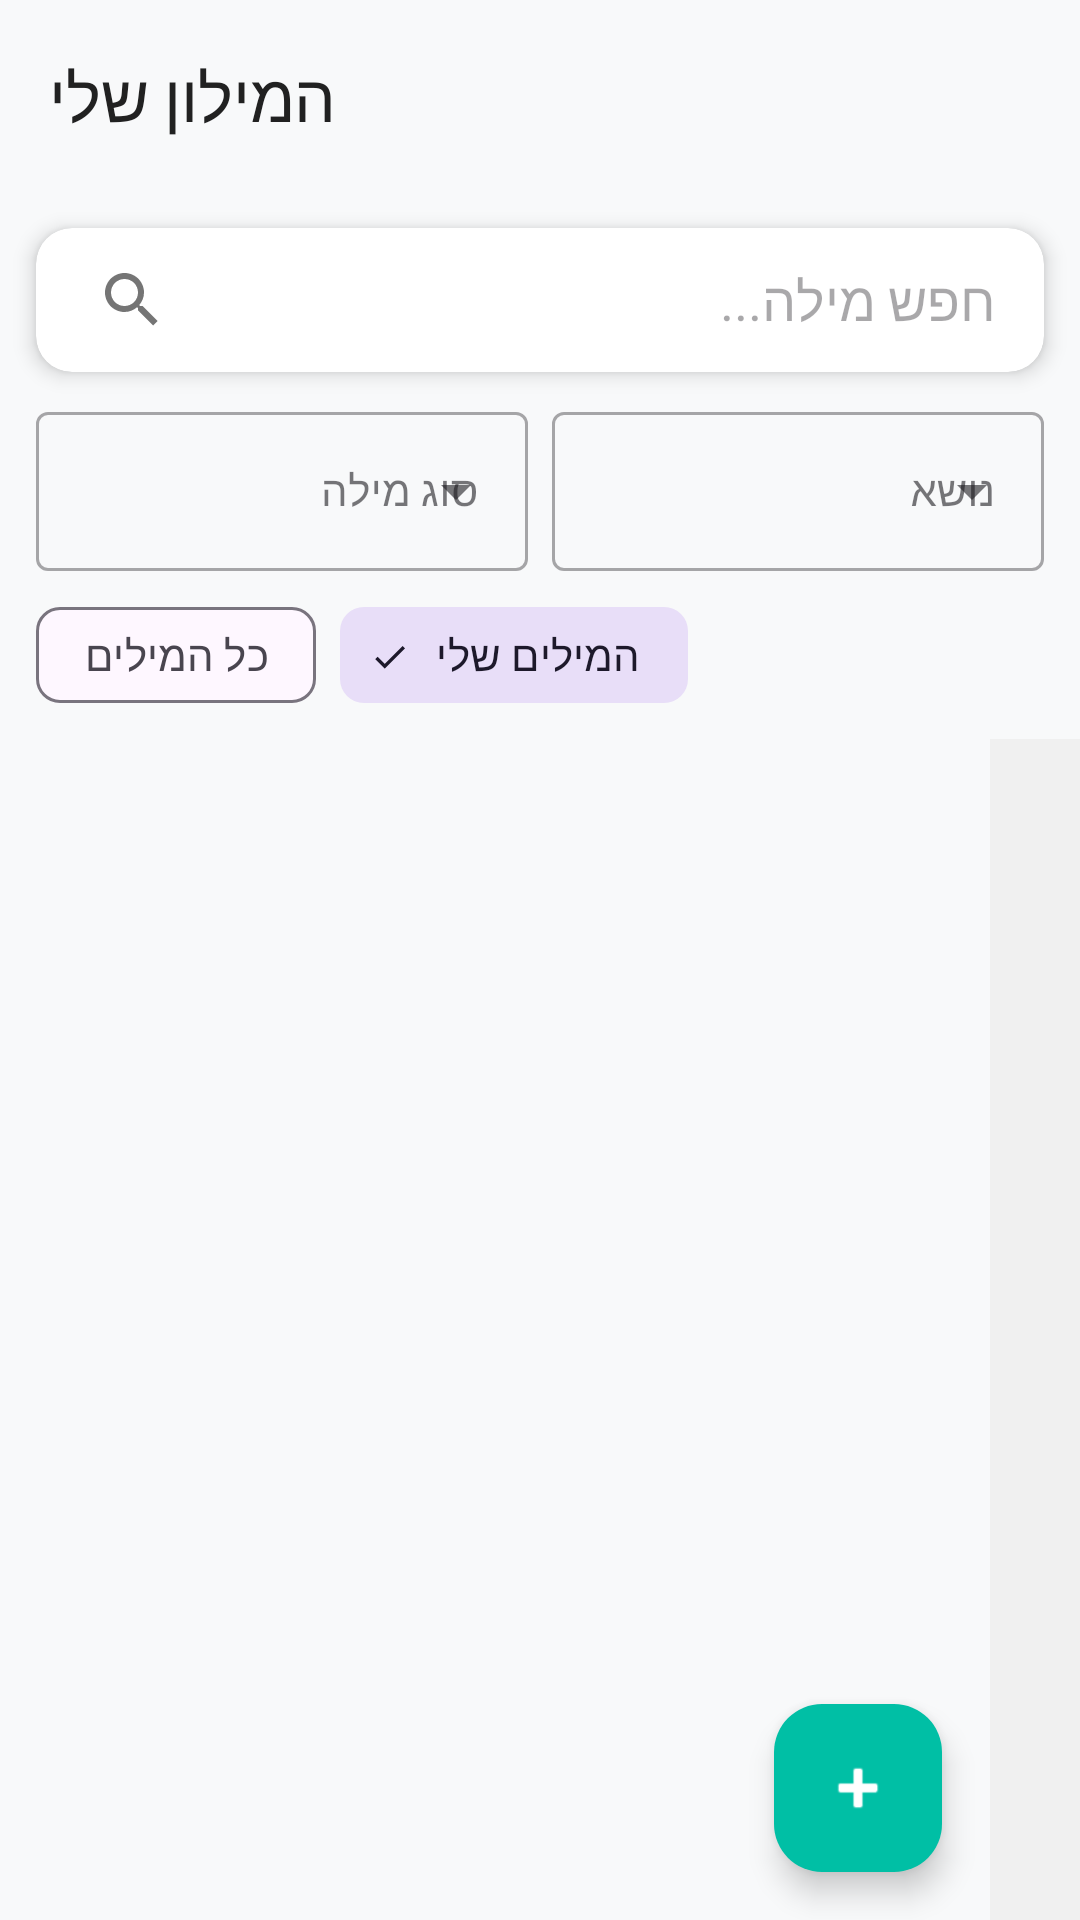

Icons on this 1080*1920 Android screen, each with the point to tap as (x,y):
הוסף מילה ידנית: (858,1788)
